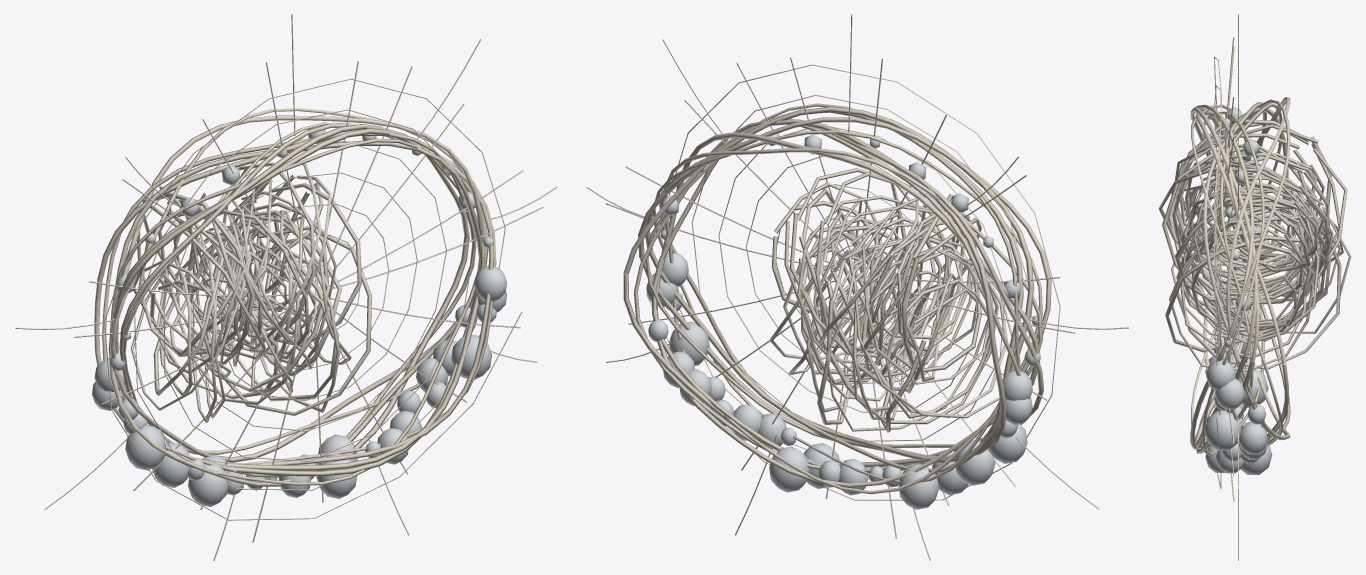
Rendered from fly_hub.gltf.
3 renders of one model, left to right at view 1: azimuth 30°, elevation 25°; view 2: azimuth 150°, elevation 25°; view 3: azimuth 270°, elevation 25°, orthographic. The views are drawn at different scales.
Parts seen in each view (by area): view 1: hub_silk, hub_wrap, hub_dew; view 2: hub_silk, hub_wrap, hub_dew; view 3: hub_wrap, hub_silk, hub_dew.
Boxes of the visible parts, <box> form: hub_silk: <box>15,14,557,560</box>; hub_wrap: <box>131,162,371,422</box>; hub_dew: <box>92,127,506,506</box>; hub_silk: <box>586,14,1128,560</box>; hub_wrap: <box>770,168,1015,432</box>; hub_dew: <box>646,130,1042,509</box>; hub_wrap: <box>1158,119,1351,371</box>; hub_silk: <box>1190,14,1290,560</box>; hub_dew: <box>1204,107,1272,474</box>.
Bounding box in the file's own units: 6.01 × 5.82 × 2.05.
